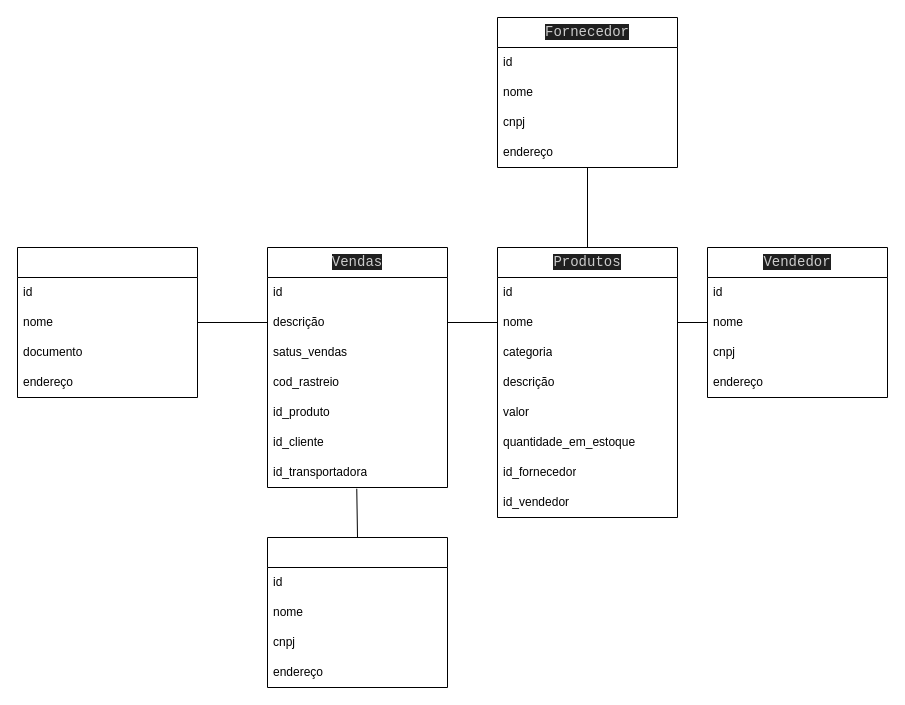
Image size: 905x705. Some labels were removed from this diagram. Here are the shapes that lost their labels. From the top down, the box of each, then its label:
(16, 246, 198, 398): Clientes
(266, 536, 448, 688): Transportadora
